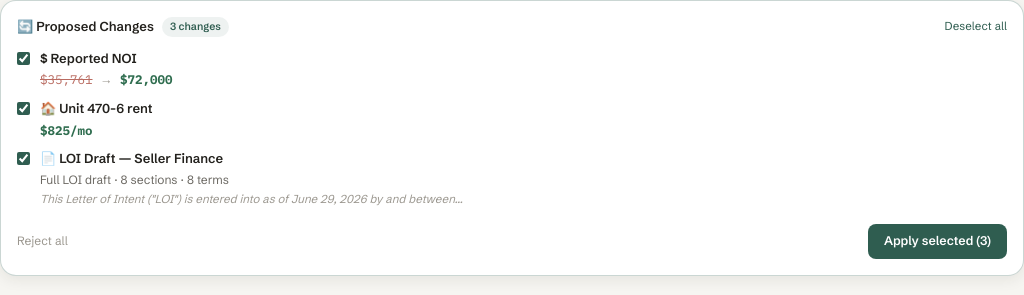
ProposalCard › Select all / Deselect all toggles every checkbox
// All checked initially → link reads "Deselect all"
Step 1. Click the button "Deselect all" → (976, 27), box [944, 18, 1007, 36]
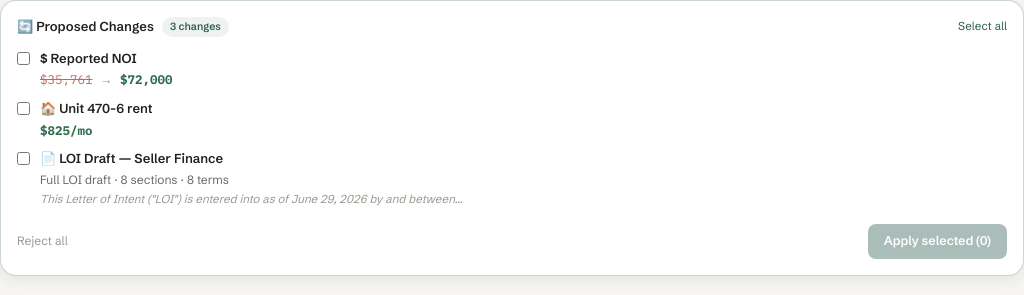
Result: the checkbox labelled "$ Reported NOI $35,761 → $72,000" is not checked at [17, 52, 30, 65]
Result: the checkbox labelled "🏠 Unit 470-6 rent $825/mo" is not checked at [17, 102, 30, 115]
Result: the checkbox named "Include LOI Draft — Seller Finance" is not checked at [17, 152, 30, 165]
Step 2. Click the button "Select all" → (982, 27), box [958, 18, 1007, 36]
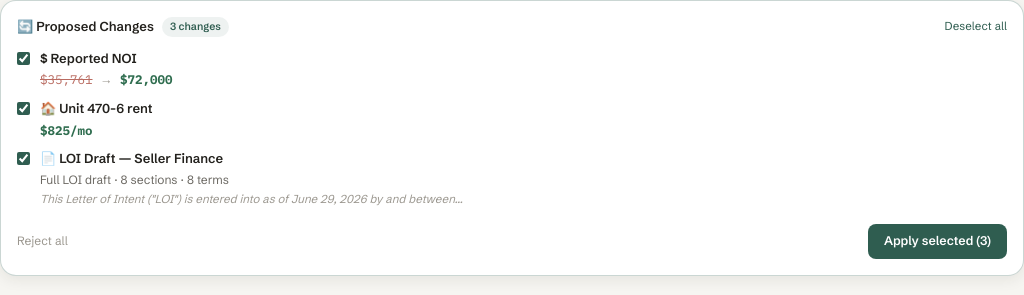
Result: the checkbox labelled "$ Reported NOI $35,761 → $72,000" is checked at [17, 52, 30, 65]
Result: the checkbox labelled "🏠 Unit 470-6 rent $825/mo" is checked at [17, 102, 30, 115]
Result: the checkbox named "Include LOI Draft — Seller Finance" is checked at [17, 152, 30, 165]
